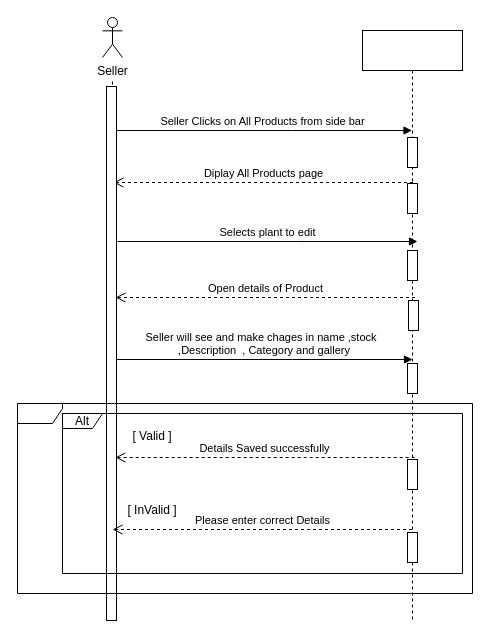
The diagram is 490 pixels wide and 638 high, and some of its shapes have lost their labels. The box of each missing label's shape, as (x1, y1, x2, y2) in pixels:
:System: (362, 30, 462, 620)
Loop: (16, 402, 472, 594)
